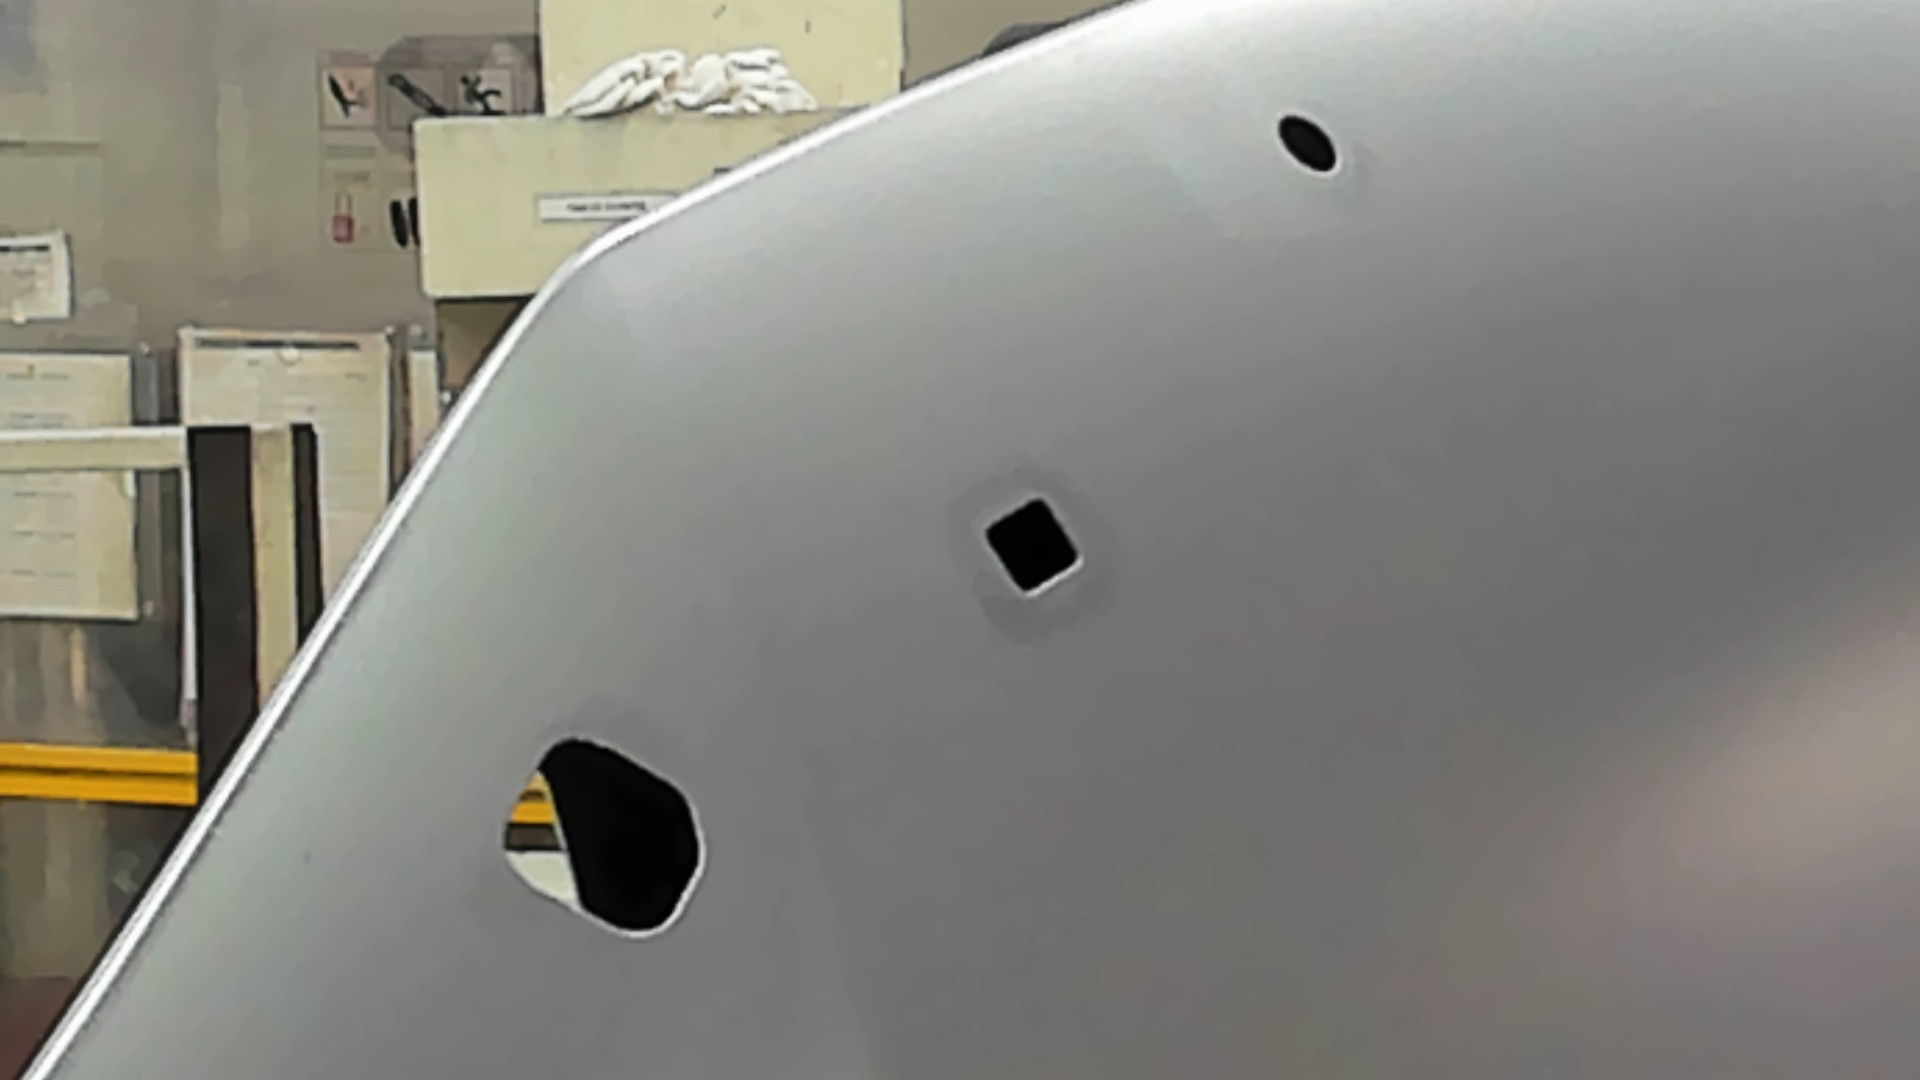capo: (1088, 187, 1920, 1080)
chico: (1273, 109, 1342, 177)
grande: (496, 728, 713, 945)
mediano: (978, 492, 1085, 603)
